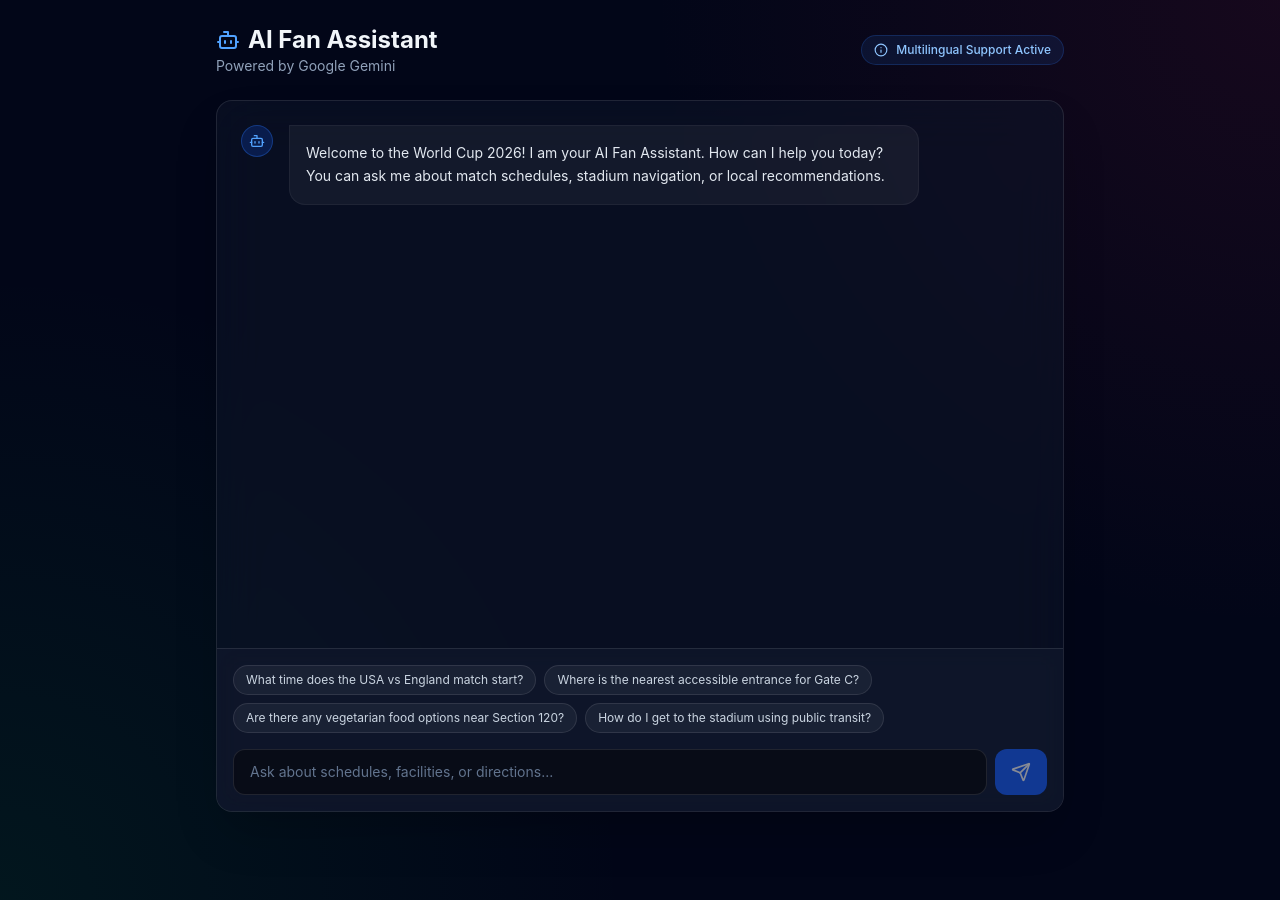
Scenario: FanAssistant › sends message and displays AI response
The image size is (1280, 900).
Type "When is the next game?" into the field.
click(610, 772); type("When is the next game?")  # box [233,749,987,795]
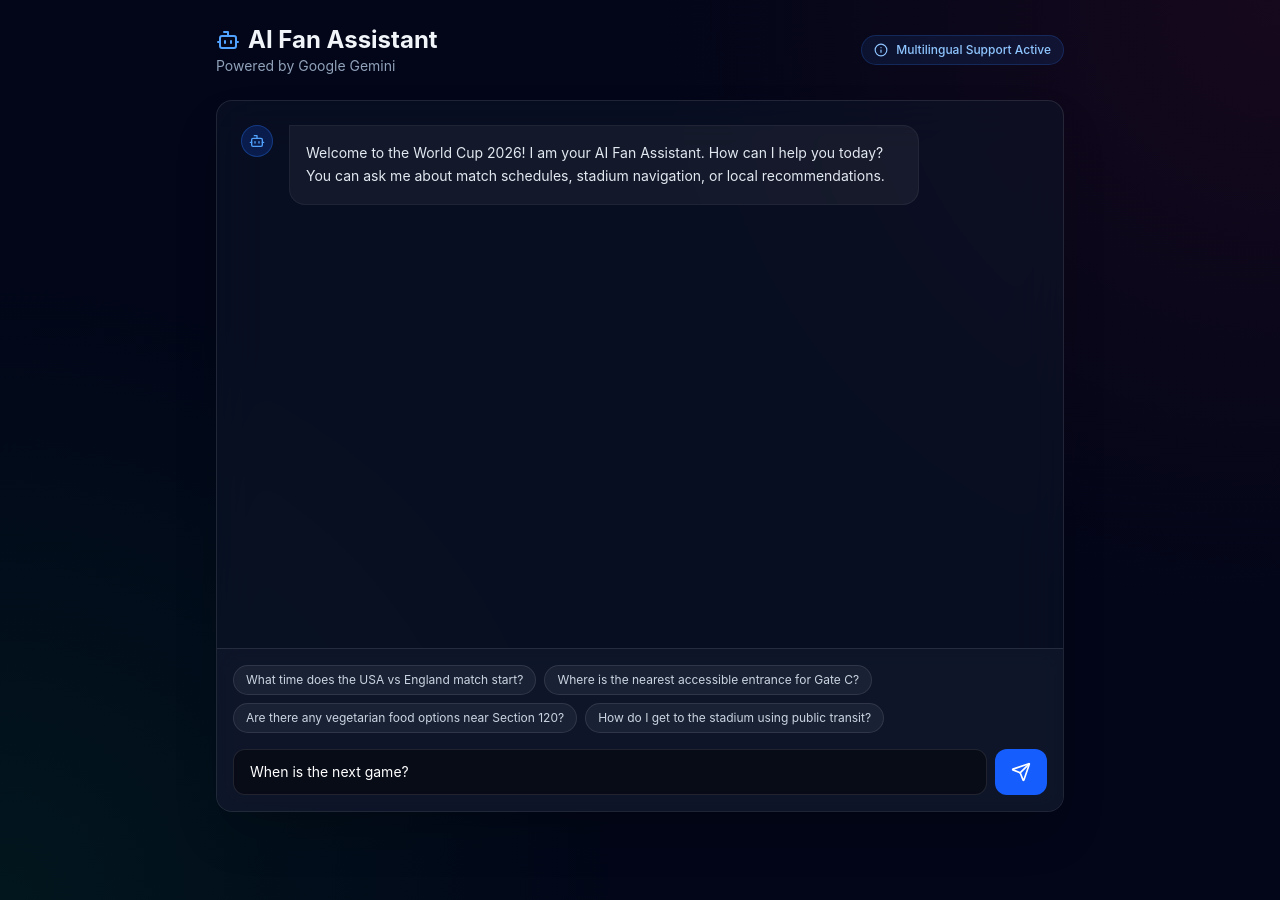
Submit the form, box [233,749,1047,795]
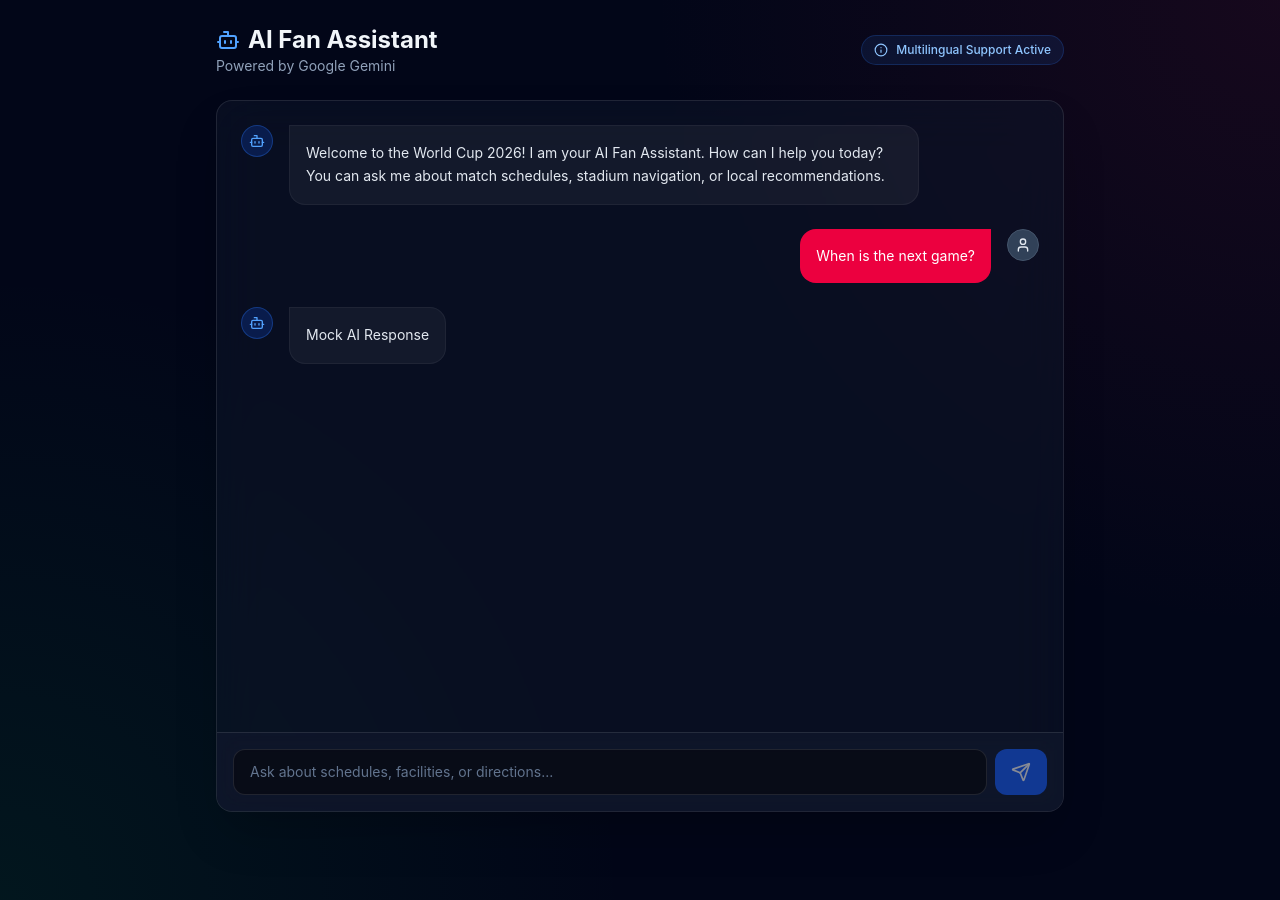
Check: the text "When is the next game?" is shown, box [800,228,991,283]
Check: the text "Mock AI Response" is shown, box [289,307,446,364]
